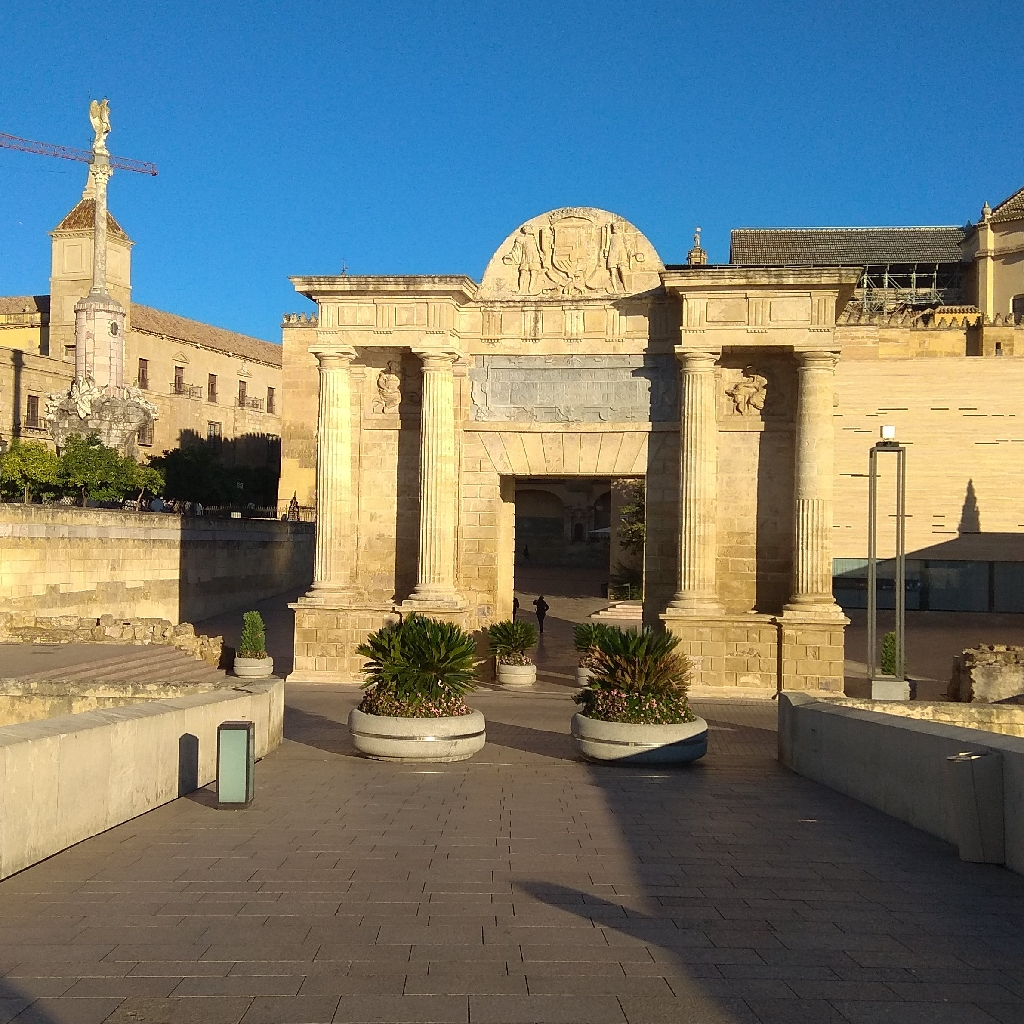vano-adintelado: (470, 426, 666, 666)
